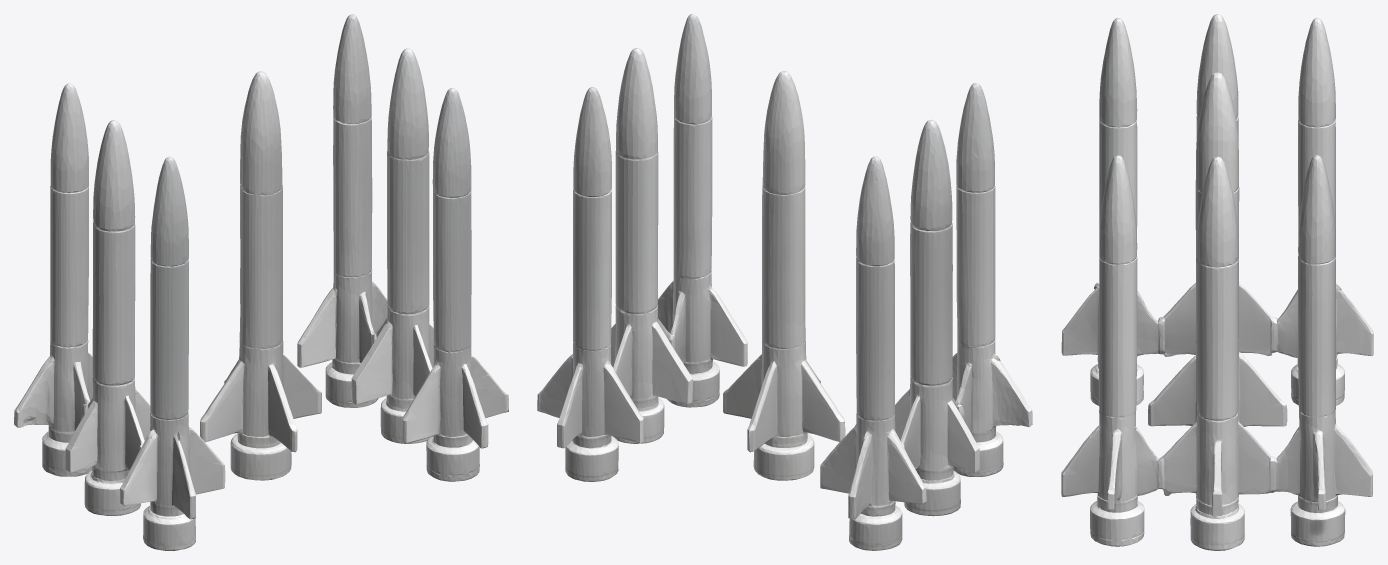
Rendered from missiel.glb.
3 views of the same model, side by side, from view 1: azimuth 30°, elevation 25°; view 2: azimuth 150°, elevation 25°; view 3: azimuth 270°, elevation 25° (orthographic).
Parts seen in each view (by area): view 1: world; view 2: world; view 3: world.
Part boxes in pixels (x1=…): world: x1=14, y1=14, x2=508, y2=550; world: x1=537, y1=14, x2=1032, y2=550; world: x1=1061, y1=14, x2=1373, y2=550.
Bounding box in the file's own units: 1 × 0.9817 × 0.7063.
1 material, 1 textured.
